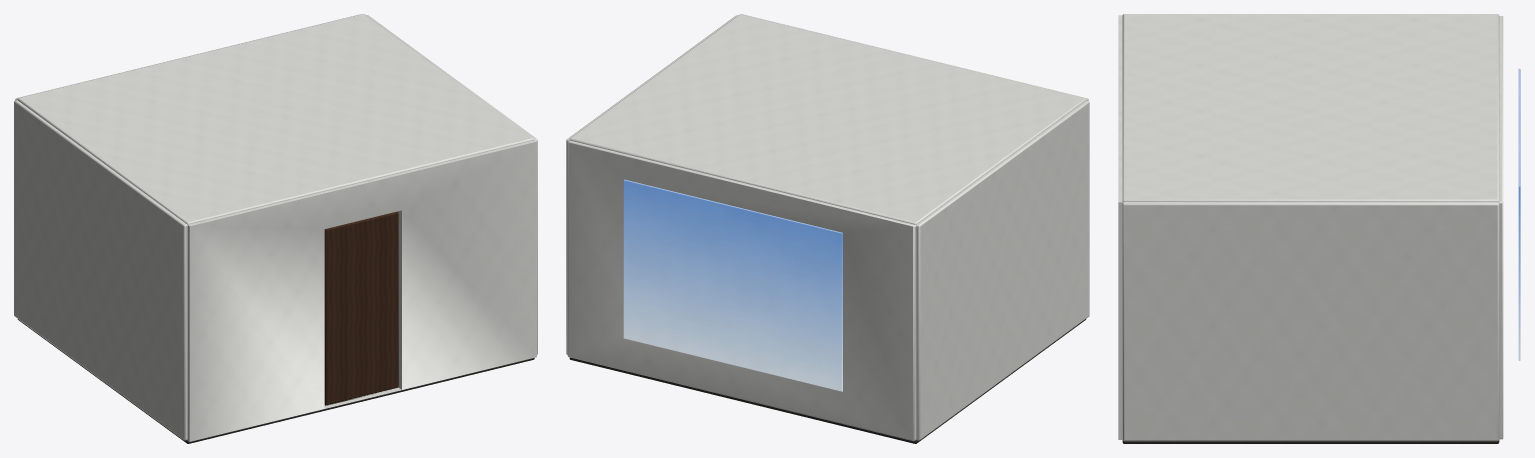
File: unit-3-standard-double.glb
3 views of the same model, side by side, from view 1: azimuth 30°, elevation 25°; view 2: azimuth 150°, elevation 25°; view 3: azimuth 270°, elevation 25° (orthographic). The views are drawn at different scales.
Visible parts, largest first — view 1: wall_entry, ceiling, wall_left, door_1_leaf, floor, wall_right; view 2: ceiling, wall_back_window, wall_left, trim_window_backdrop, floor, wall_right; view 3: wall_right, ceiling, wall_entry, wall_back_window, floor, trim_window_backdrop.
Part boxes in pixels (x1,y1,x2,y2): wall_entry: (187, 140, 536, 441); ceiling: (17, 14, 534, 224); wall_left: (14, 100, 187, 440); door_1_leaf: (324, 211, 398, 404); floor: (17, 319, 534, 443); wall_right: (366, 15, 537, 354); ceiling: (569, 14, 1086, 224); wall_back_window: (567, 140, 916, 441); wall_left: (916, 100, 1089, 440); trim_window_backdrop: (623, 179, 842, 391); floor: (569, 319, 1085, 443); wall_right: (566, 15, 737, 354); wall_right: (1122, 202, 1499, 441); ceiling: (1122, 14, 1499, 202); wall_entry: (1118, 15, 1123, 439); wall_back_window: (1499, 16, 1503, 439); floor: (1122, 440, 1499, 443); trim_window_backdrop: (1518, 68, 1520, 360).
Size of the model in its own units: 4.19 by 2.51 by 3.75.
Materials: 12 (11 with a texture image).
